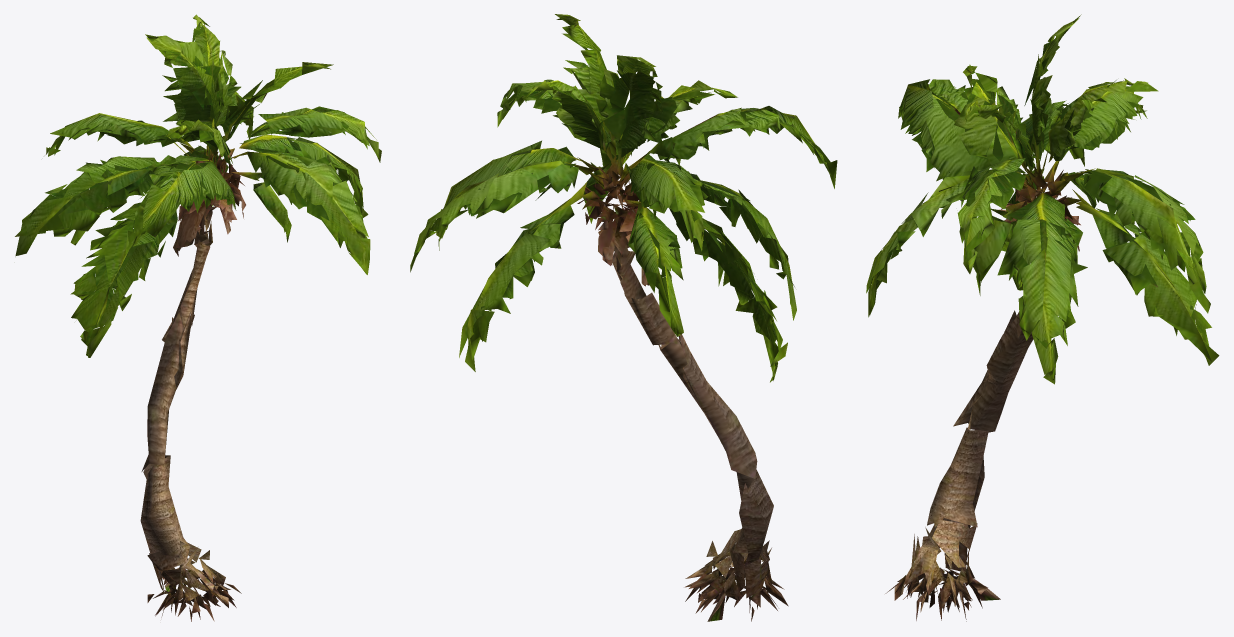
The model's file is tree_palm.glb.
3 renders of one model, left to right at view 1: azimuth 30°, elevation 25°; view 2: azimuth 150°, elevation 25°; view 3: azimuth 270°, elevation 25°, orthographic. The views are drawn at different scales.
Visible parts, largest first — view 1: tripo_node_c144469b-e6a4-4514-88e3-bfa41fe35ea4; view 2: tripo_node_c144469b-e6a4-4514-88e3-bfa41fe35ea4; view 3: tripo_node_c144469b-e6a4-4514-88e3-bfa41fe35ea4.
Part boxes in pixels (bbox=[...]): tripo_node_c144469b-e6a4-4514-88e3-bfa41fe35ea4: bbox=[15, 14, 381, 621]; tripo_node_c144469b-e6a4-4514-88e3-bfa41fe35ea4: bbox=[410, 14, 837, 621]; tripo_node_c144469b-e6a4-4514-88e3-bfa41fe35ea4: bbox=[866, 14, 1219, 621].
Size of the model in its own units: 0.6683 by 1 by 0.5319.
1 material, 1 textured.
